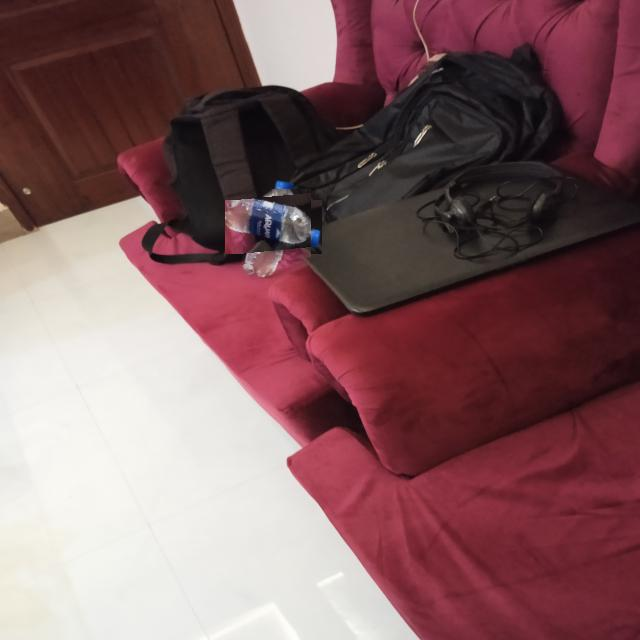Plastic: (235, 189, 311, 265)
